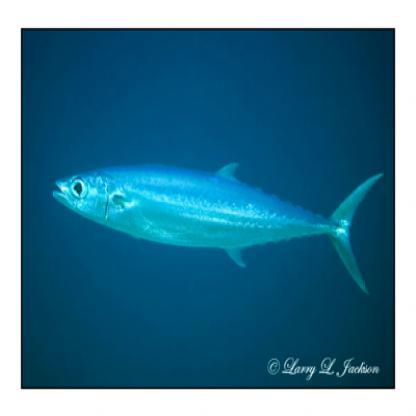Bio: (47, 149, 385, 302)
